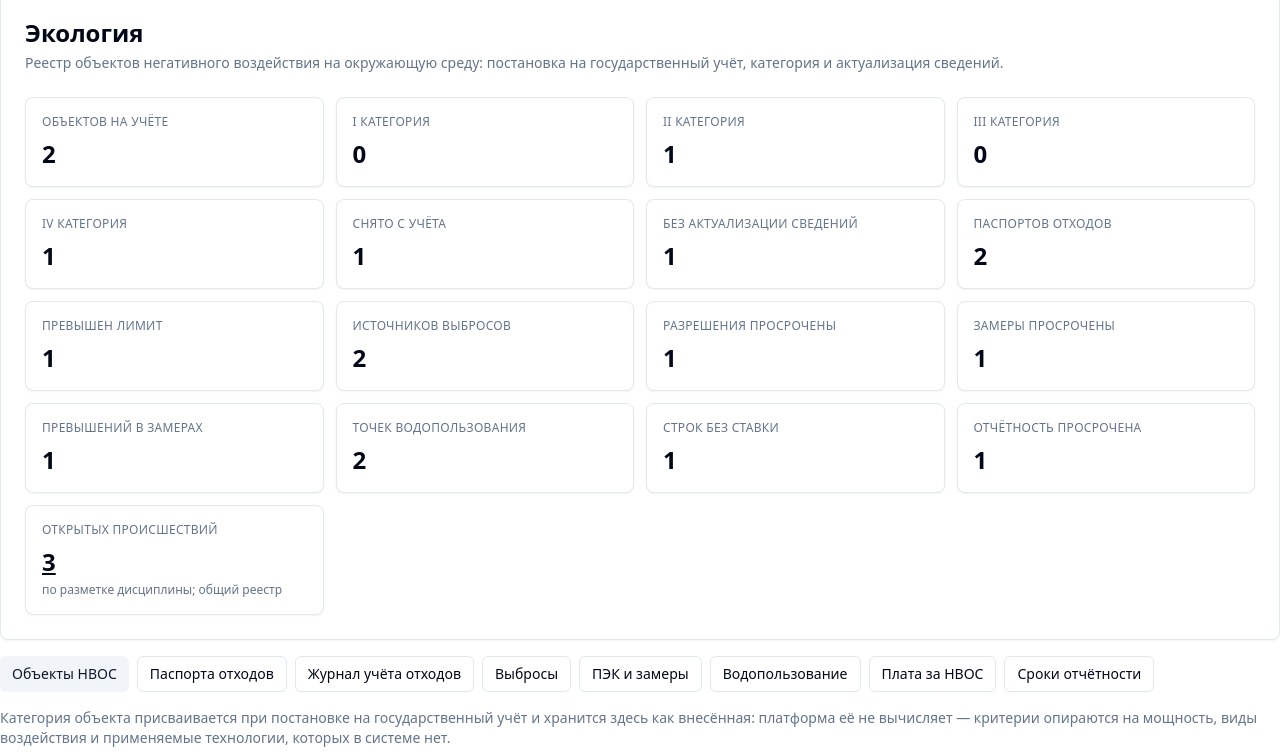
it: EcologyPage › движение отходов записывается с экрана (срез-100)
Click the button "Журнал учёта отходов" at point(384, 674), box [295,656,474,692]
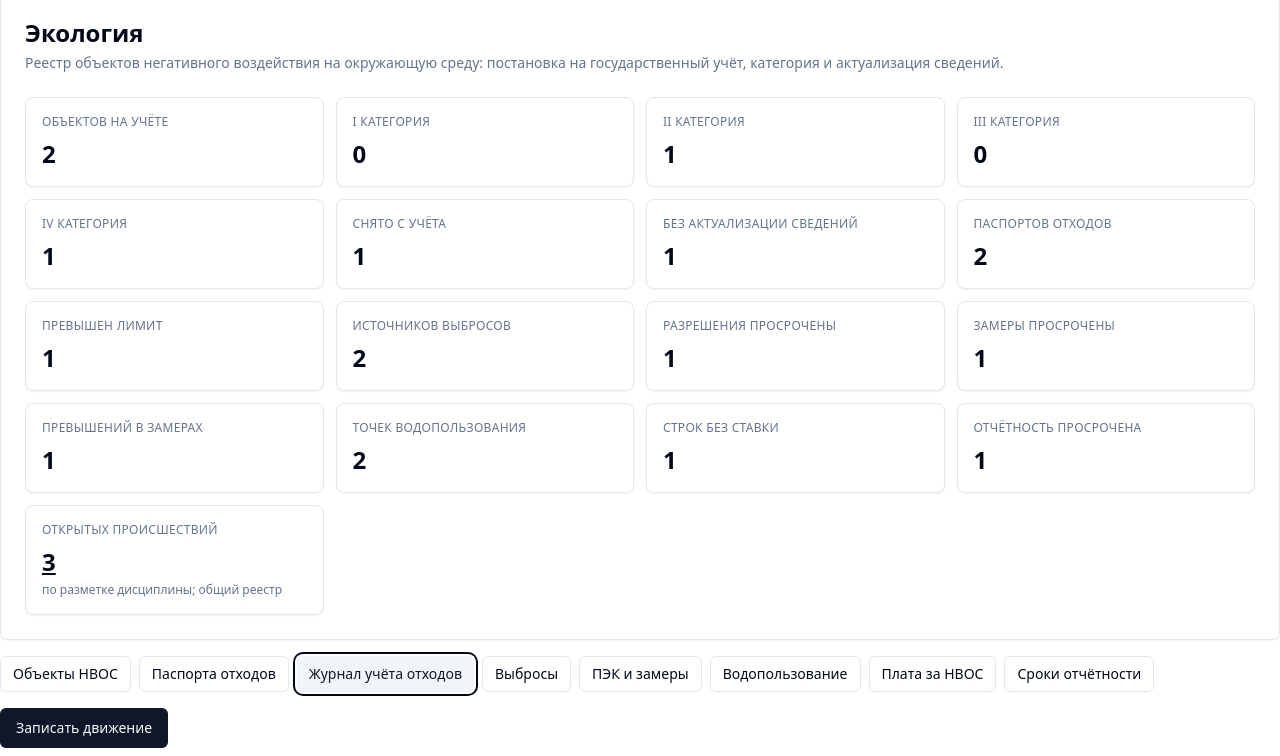
Click the button "Записать движение" at point(84, 728), box [0,708,168,748]
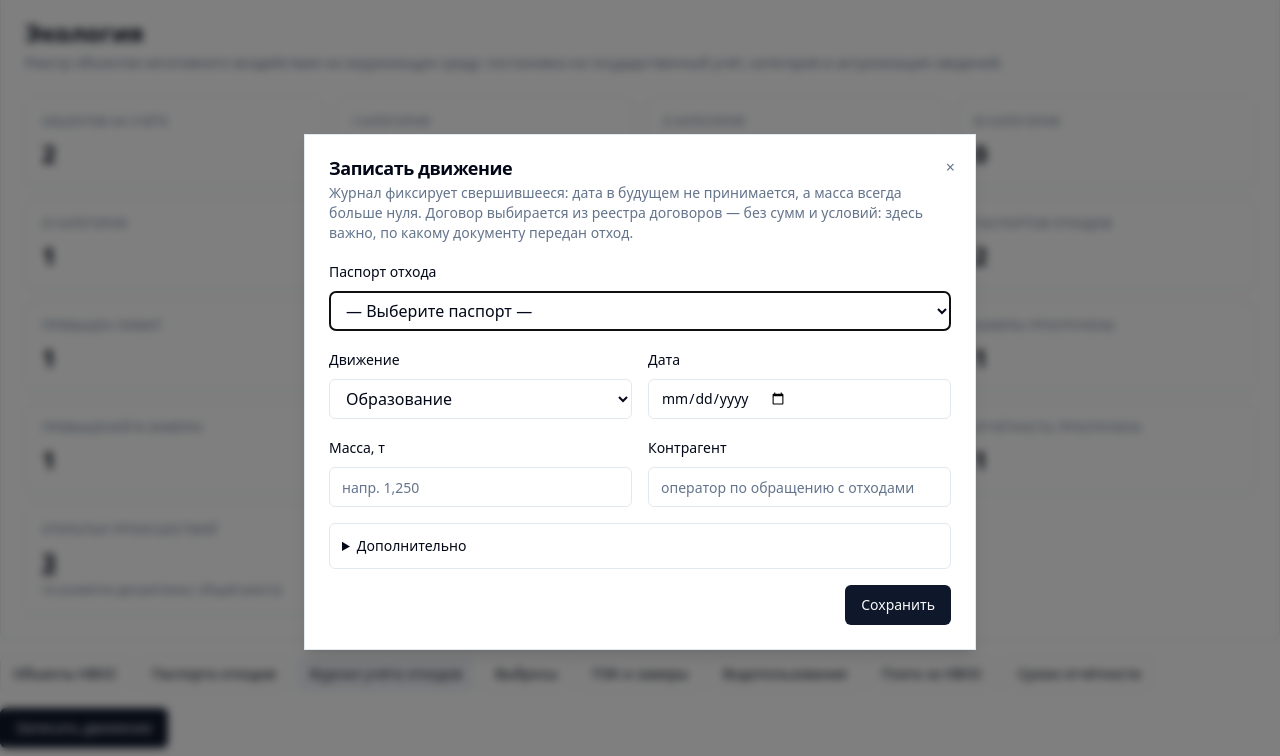
Select "Отходы минеральных масел моторных · 40611001313" in the dropdown labelled "Паспорт отхода" at point(640, 311), box [329,291,951,331]
Type "2026-08-20" into the date field labelled "Дата" at point(800, 399), box [648,379,951,419]
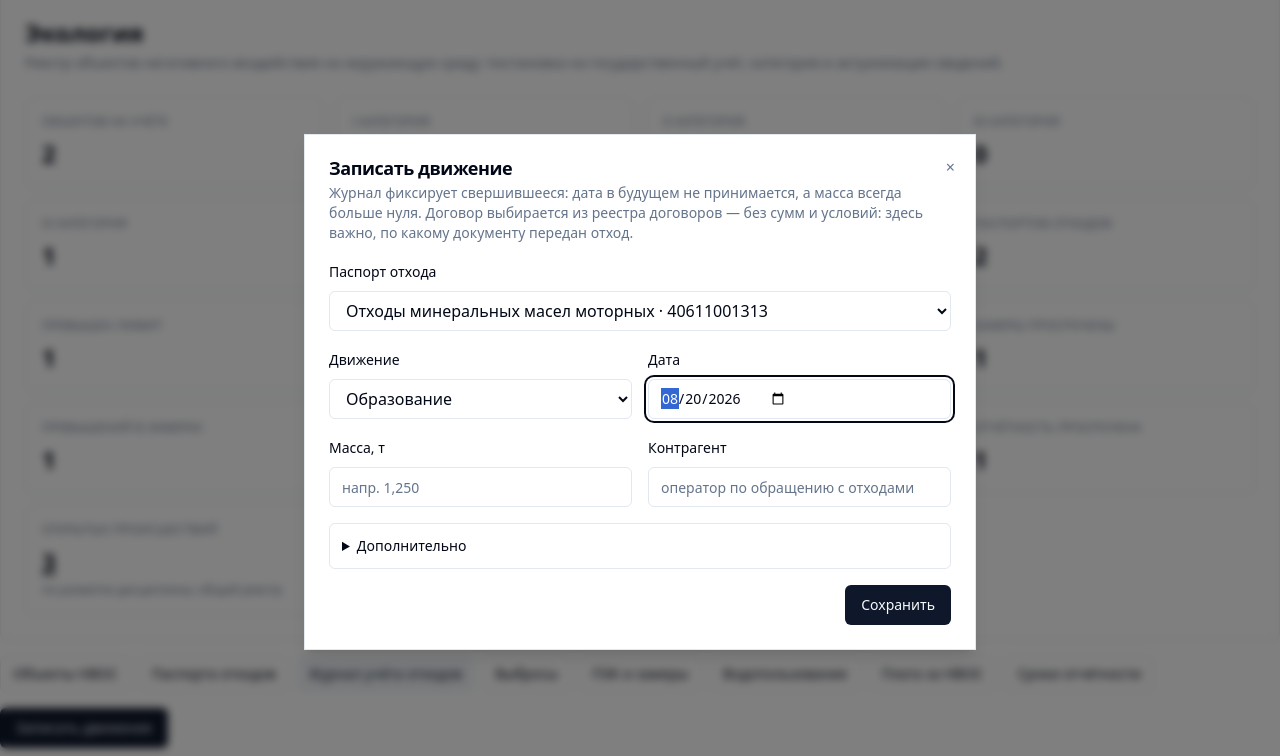
Type "1,5" into the field labelled "Масса, т" at point(480, 487), box [329,467,632,507]
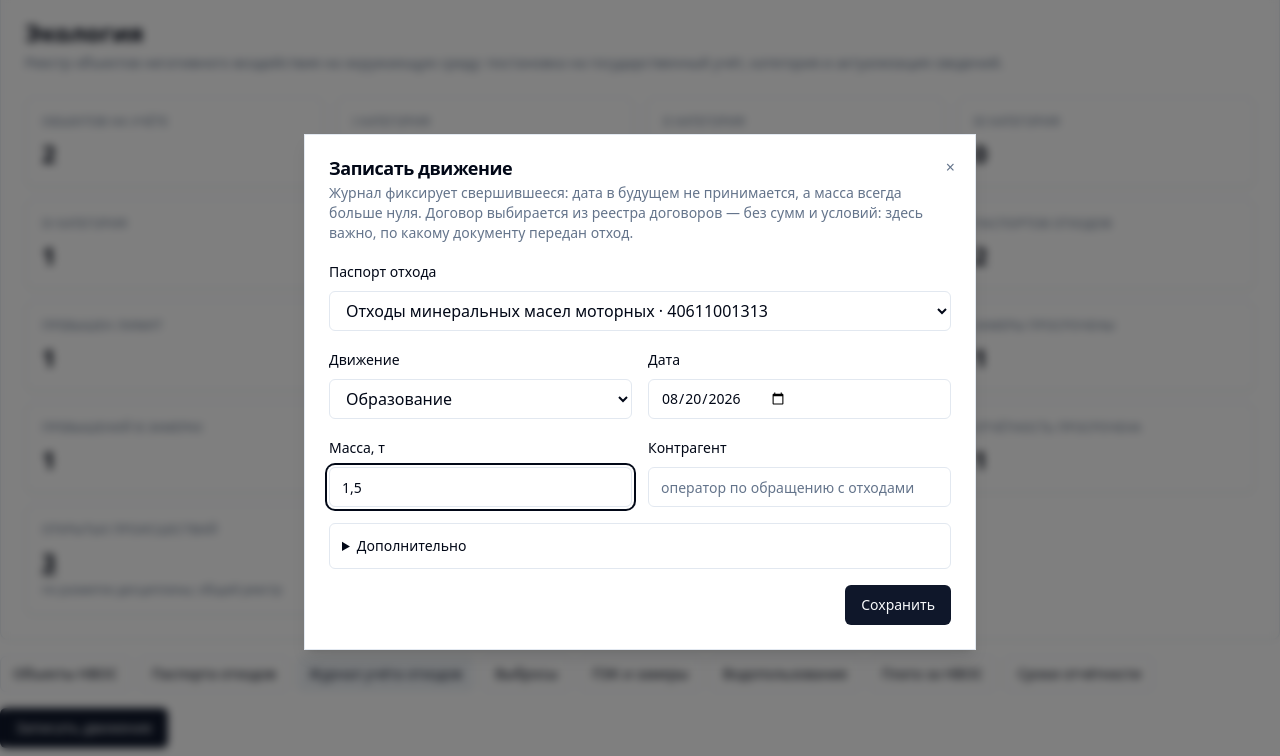
Type "ООО «Новый оператор»" into the field labelled "Контрагент" at point(800, 487), box [648,467,951,507]
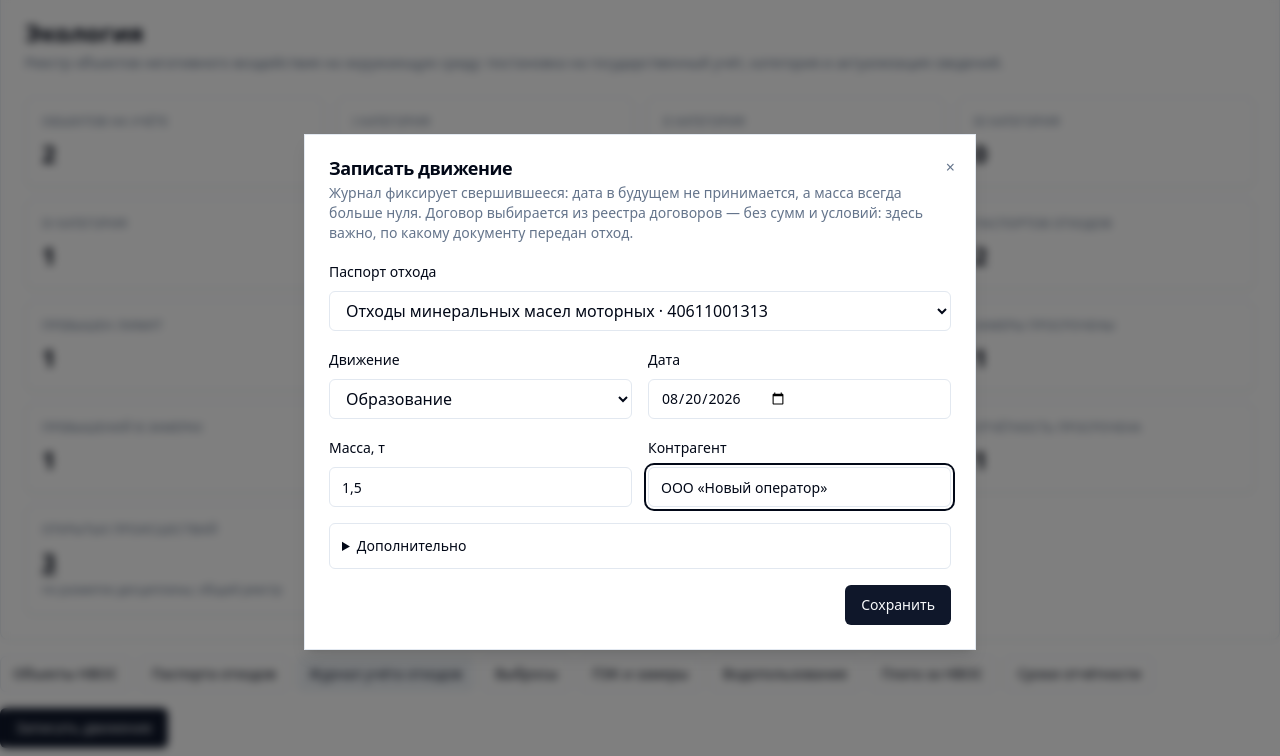
Click the button "Сохранить" at point(898, 605), box [845,585,951,625]
(page scrolled)
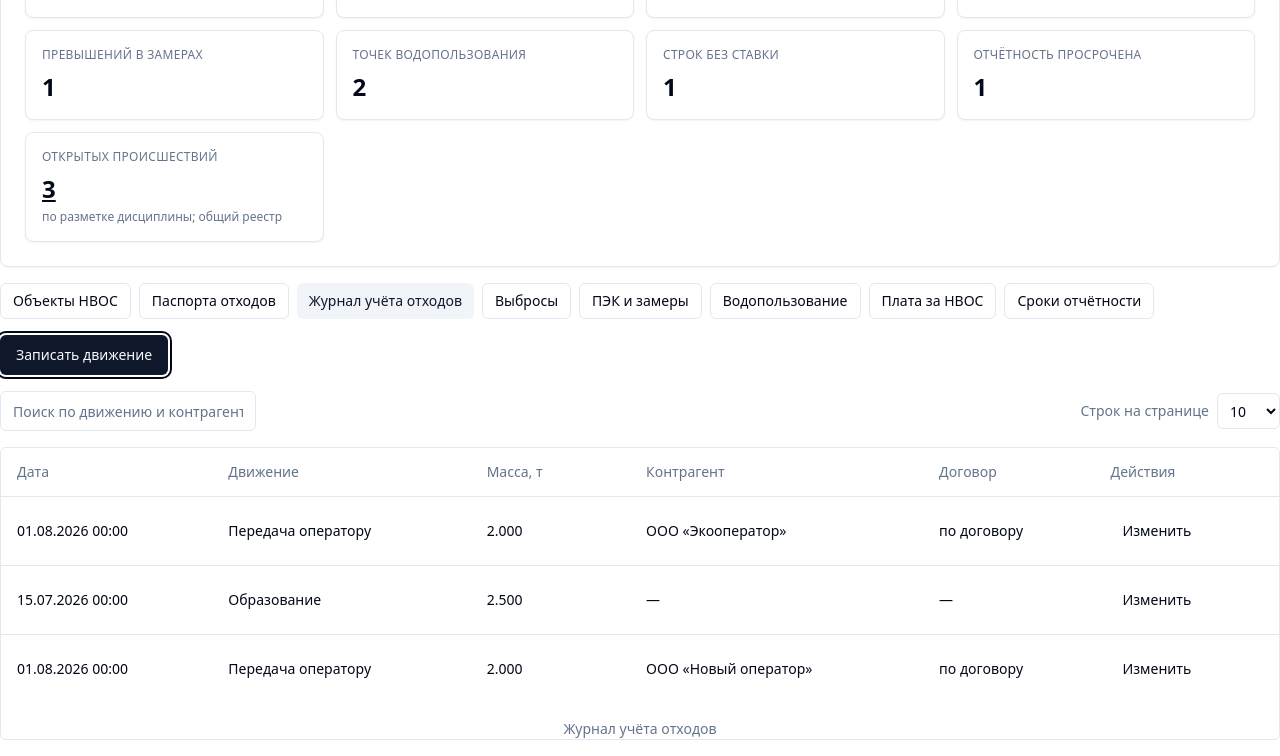
Now the text "ООО «Новый оператор»" is shown, box [630,634,923,702]
